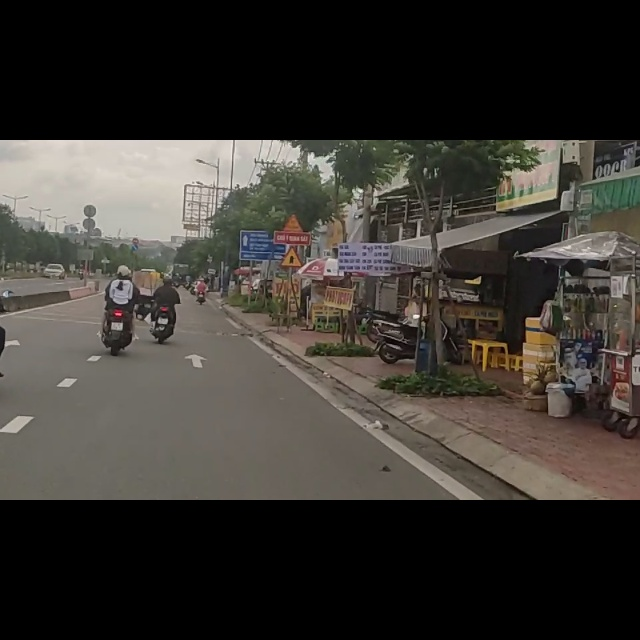bien_chi_dan: (277, 188, 303, 229)
